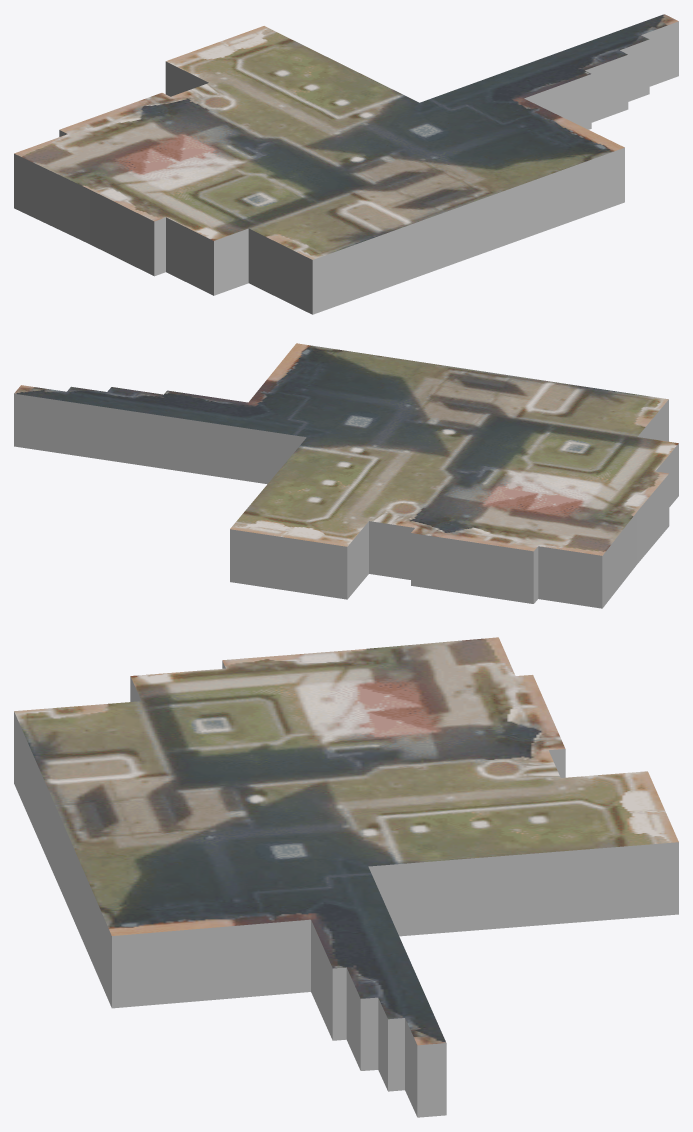
The model's file is DEBW_0010007Tvll.gltf.
3 renders of one model, top to bottom at view 1: azimuth 30°, elevation 25°; view 2: azimuth 150°, elevation 25°; view 3: azimuth 270°, elevation 25°, orthographic. The views are drawn at different scales.
Visible parts, largest first — view 1: Z_UP; view 2: Z_UP; view 3: Z_UP.
Boxes of the visible parts, x1,y1,x2,y2 form: Z_UP: (14, 14, 678, 314); Z_UP: (14, 343, 678, 608); Z_UP: (14, 637, 678, 1117).
Bounding box in the file's own units: 78.21 × 6.46 × 53.86.
Materials: 2 (1 with a texture image).
